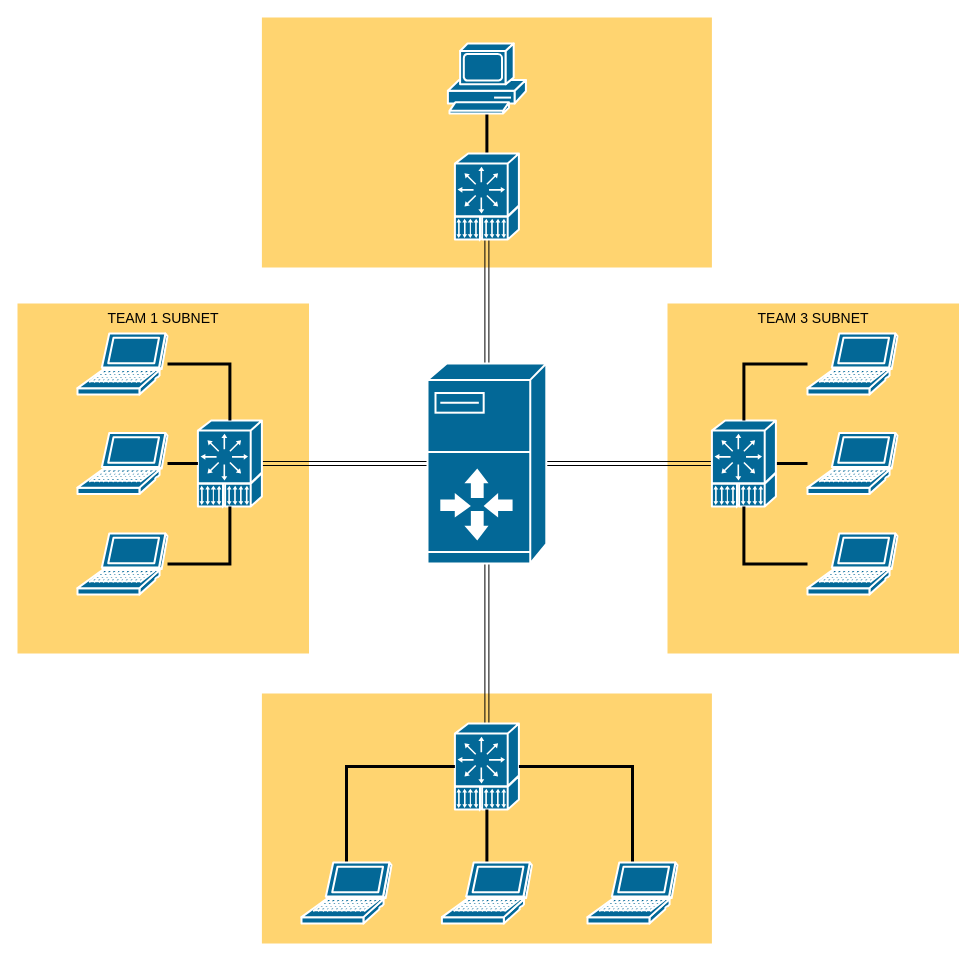
This 976x960 diagram has some shape labels left out. The box of each missing label's shape, as (x1, y1, x2, y2) in pixels:
MANAGEMENT SUBNET: (261, 17, 711, 267)
TEAM 2 SUBNET: (261, 693, 711, 943)
